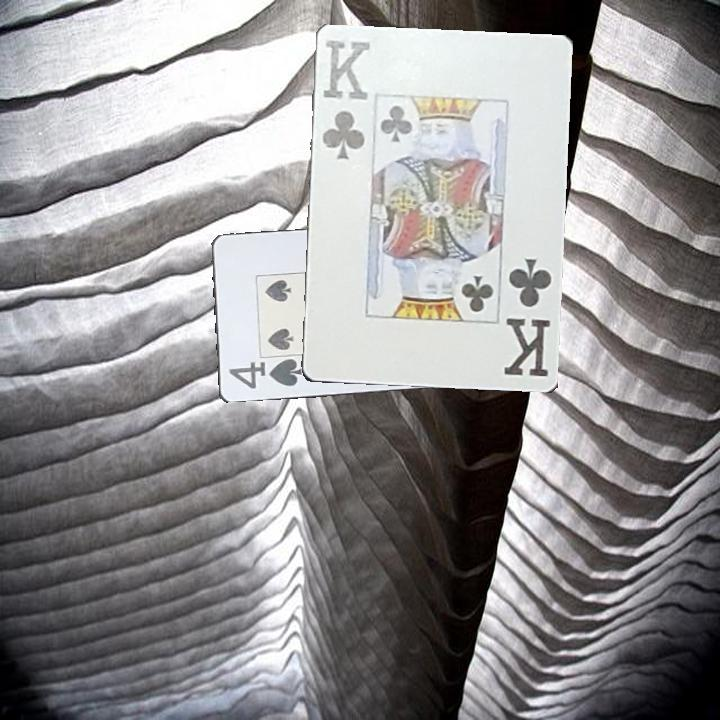4s: (225, 356, 305, 392)
Kc: (501, 255, 555, 381), (319, 37, 373, 163)
